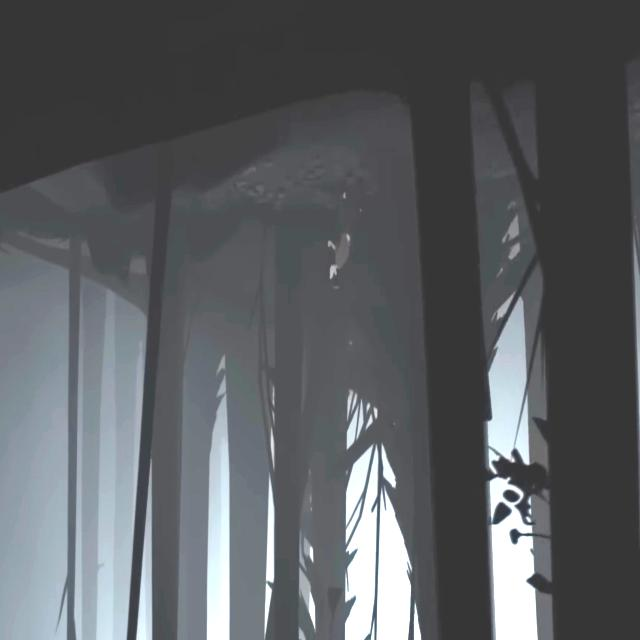boy: (328, 188, 364, 288)
